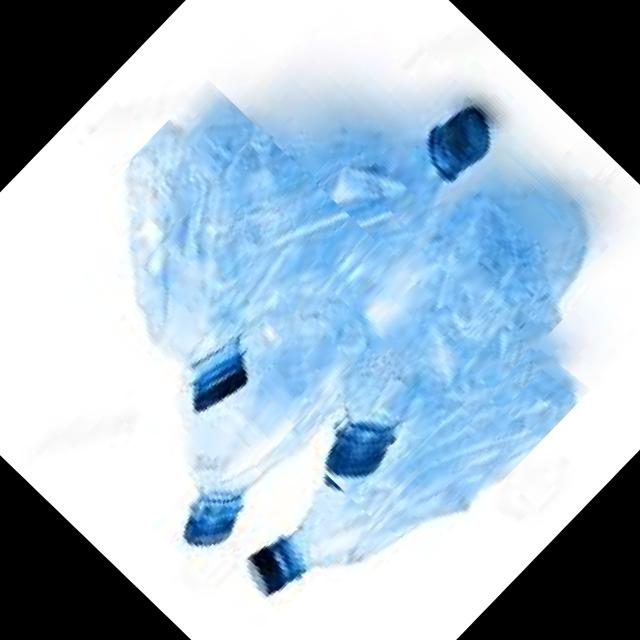plastic bottle: (253, 142, 626, 520), (216, 278, 592, 640), (24, 78, 386, 440), (98, 261, 406, 574)
